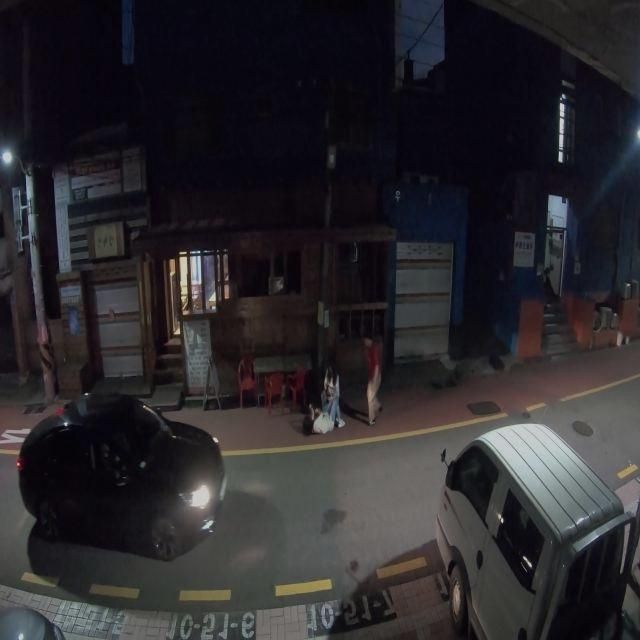fight: (303, 352, 349, 435)
